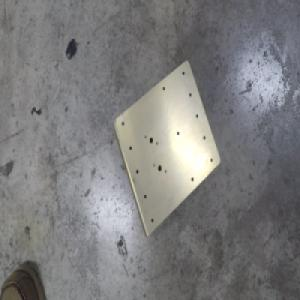MetalSheet: (110, 57, 221, 240)
